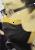with_mask: (1, 2, 35, 50)
